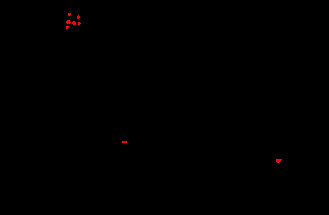Target: (276, 159, 282, 163), (66, 20, 71, 24), (72, 21, 76, 25), (77, 15, 80, 19), (122, 141, 127, 143), (68, 13, 71, 16), (78, 22, 81, 25), (66, 26, 69, 29)
